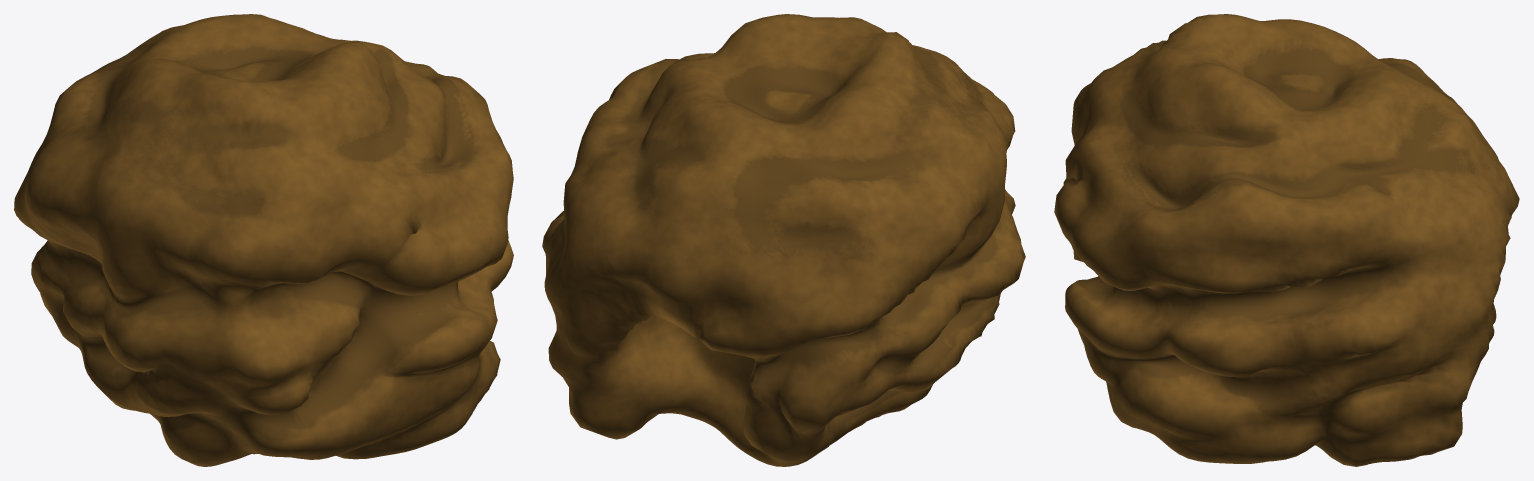
Rendered from Hive.fbx.
3 views of the same model, side by side, from view 1: azimuth 30°, elevation 25°; view 2: azimuth 150°, elevation 25°; view 3: azimuth 270°, elevation 25° (orthographic). The views are drawn at different scales.
Visible parts, largest first — view 1: Hive; view 2: Hive; view 3: Hive.
Part boxes in pixels (x1,y1,x2,y2): Hive: (14, 14, 513, 466); Hive: (542, 14, 1025, 466); Hive: (1054, 14, 1519, 466).
Size of the model in its own units: 2.31 by 2.09 by 2.4.
